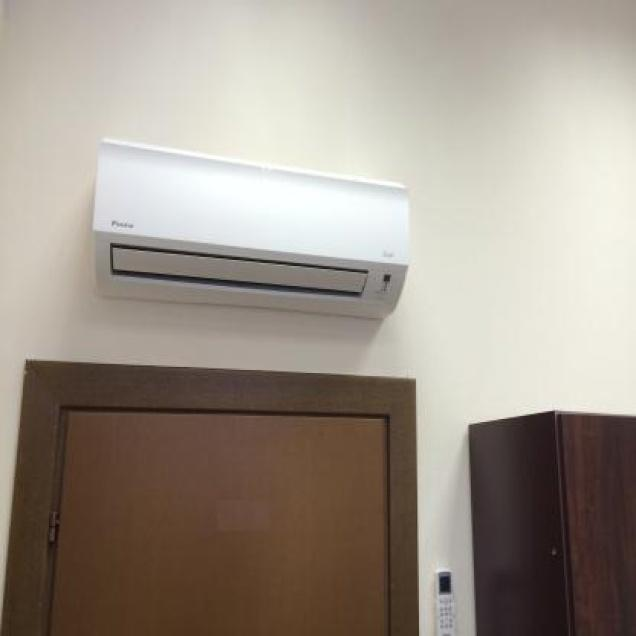AC: (90, 137, 407, 320)
